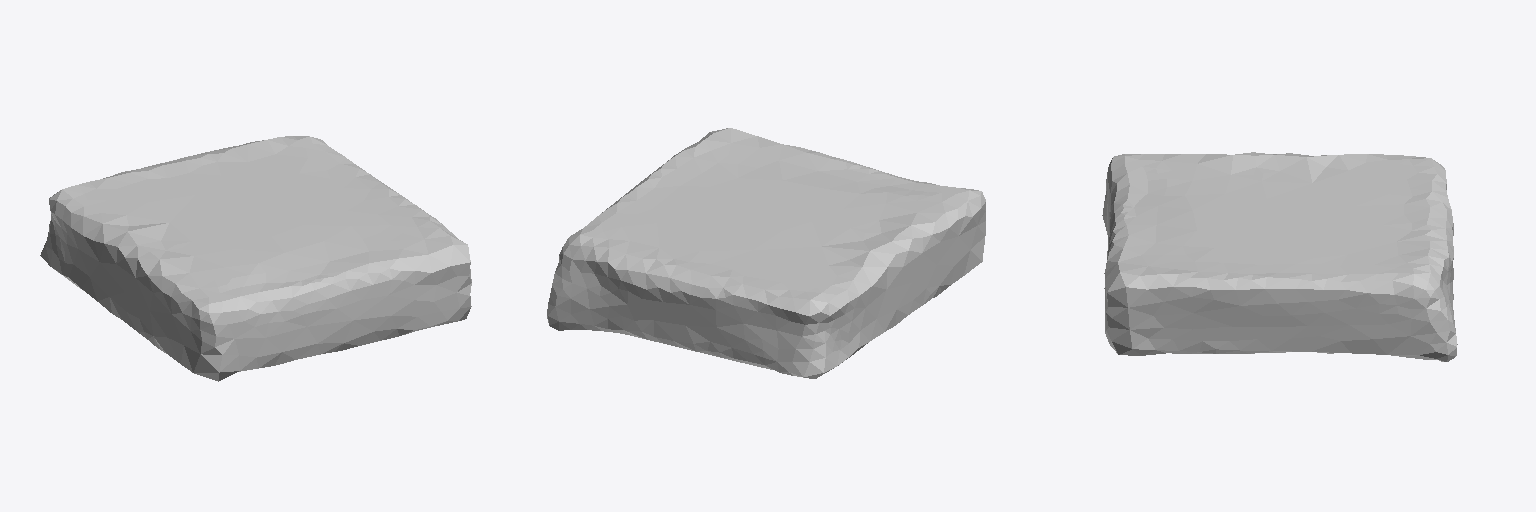
File: plataforma_2.obj
3 renders of one model, left to right at view 1: azimuth 30°, elevation 25°; view 2: azimuth 150°, elevation 25°; view 3: azimuth 270°, elevation 25°, orthographic.
Parts seen in each view (by area): view 1: plataforma_2; view 2: plataforma_2; view 3: plataforma_2.
Part boxes in pixels (x1,y1,x2,y2): plataforma_2: (40, 136, 471, 381); plataforma_2: (547, 128, 985, 378); plataforma_2: (1102, 152, 1457, 361).
Size of the model in its own units: 2.05 by 0.6026 by 2.26.